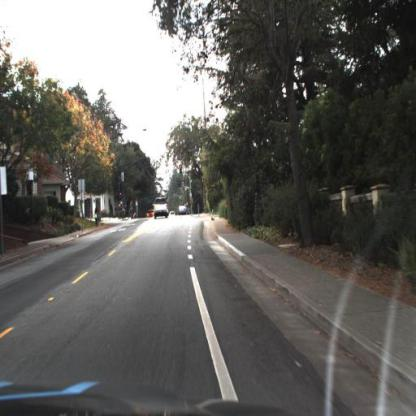car: (154, 197, 170, 222), (180, 204, 191, 216)
pedestrian: (98, 206, 102, 229), (95, 207, 99, 228)
trafficLight-Red: (180, 163, 184, 177)
